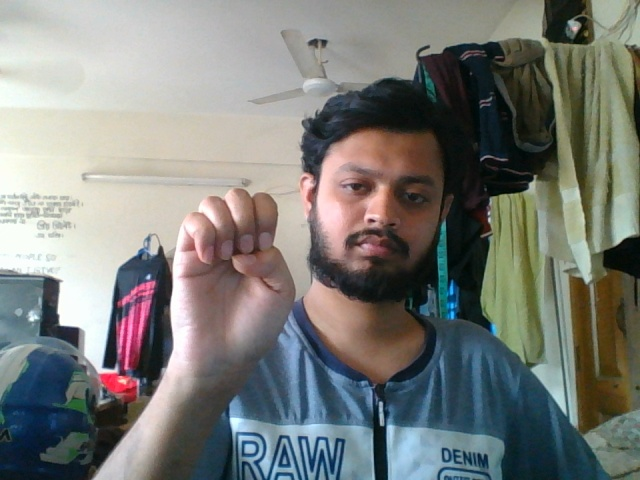sha: (168, 178, 301, 403)
